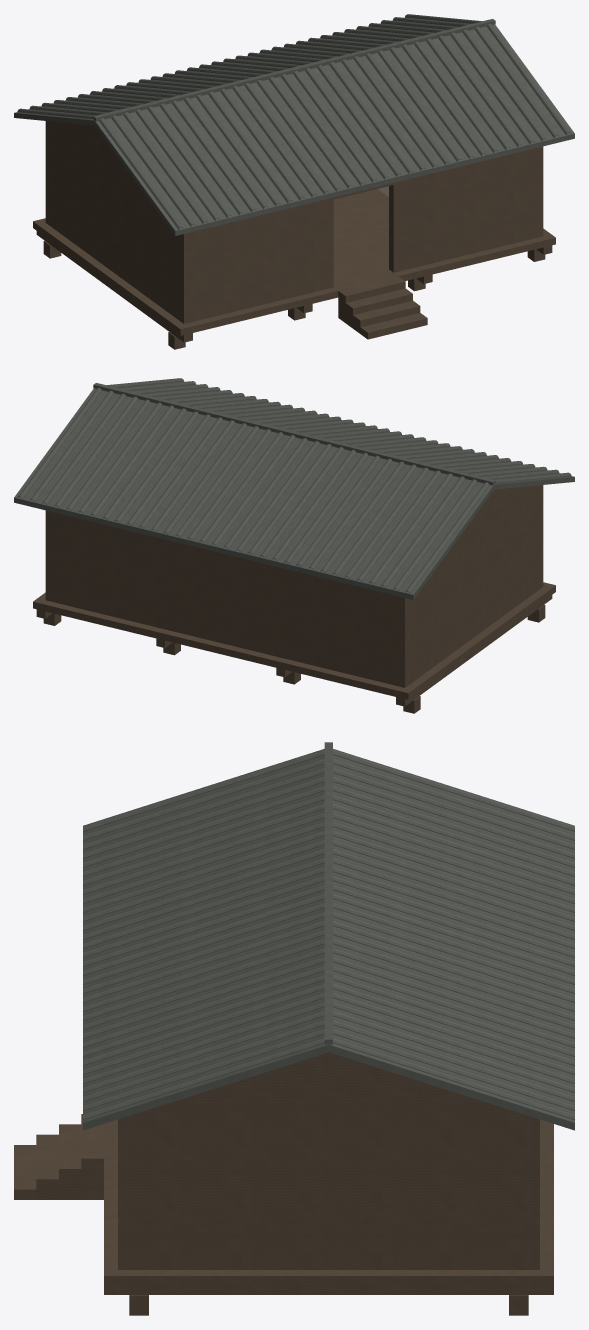
The model's file is granary-A-LOD0.glb.
3 renders of one model, top to bottom at view 1: azimuth 30°, elevation 25°; view 2: azimuth 150°, elevation 25°; view 3: azimuth 270°, elevation 25°, orthographic. The views are drawn at different scales.
Visible parts, largest first — view 1: granary-A-static_tile, granary-A-static_timber; view 2: granary-A-static_tile, granary-A-static_timber; view 3: granary-A-static_tile, granary-A-static_timber.
Part boxes in pixels (left/top/right/bottom): granary-A-static_tile: left=14, top=14, right=574, bottom=235; granary-A-static_timber: left=33, top=121, right=555, bottom=349; granary-A-static_tile: left=14, top=378, right=574, bottom=599; granary-A-static_timber: left=33, top=485, right=555, bottom=713; granary-A-static_tile: left=83, top=742, right=574, bottom=1130; granary-A-static_timber: left=14, top=1052, right=553, bottom=1315.
Size of the model in its own units: 10 by 4.5 by 7.98.
Materials: 3 (2 with a texture image).
